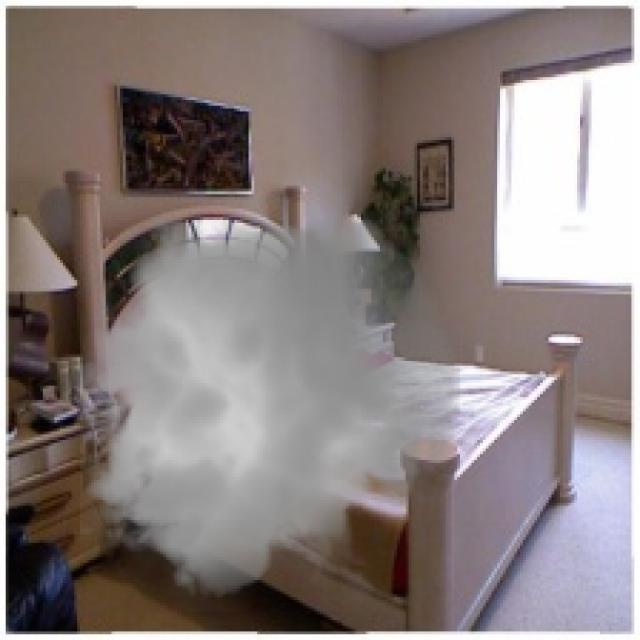smoke: (63, 197, 474, 612)
